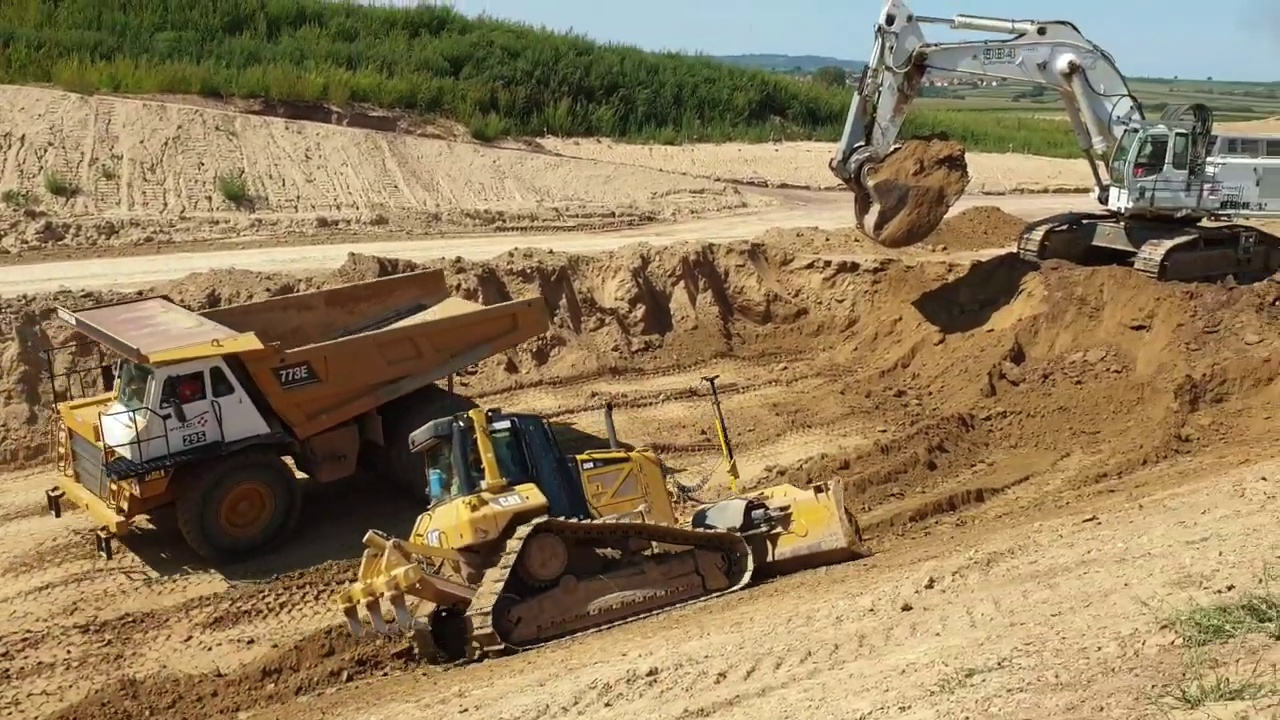bulldozer: (335, 371, 871, 668)
excavator: (819, 1, 1280, 293)
truck: (28, 261, 561, 568)
